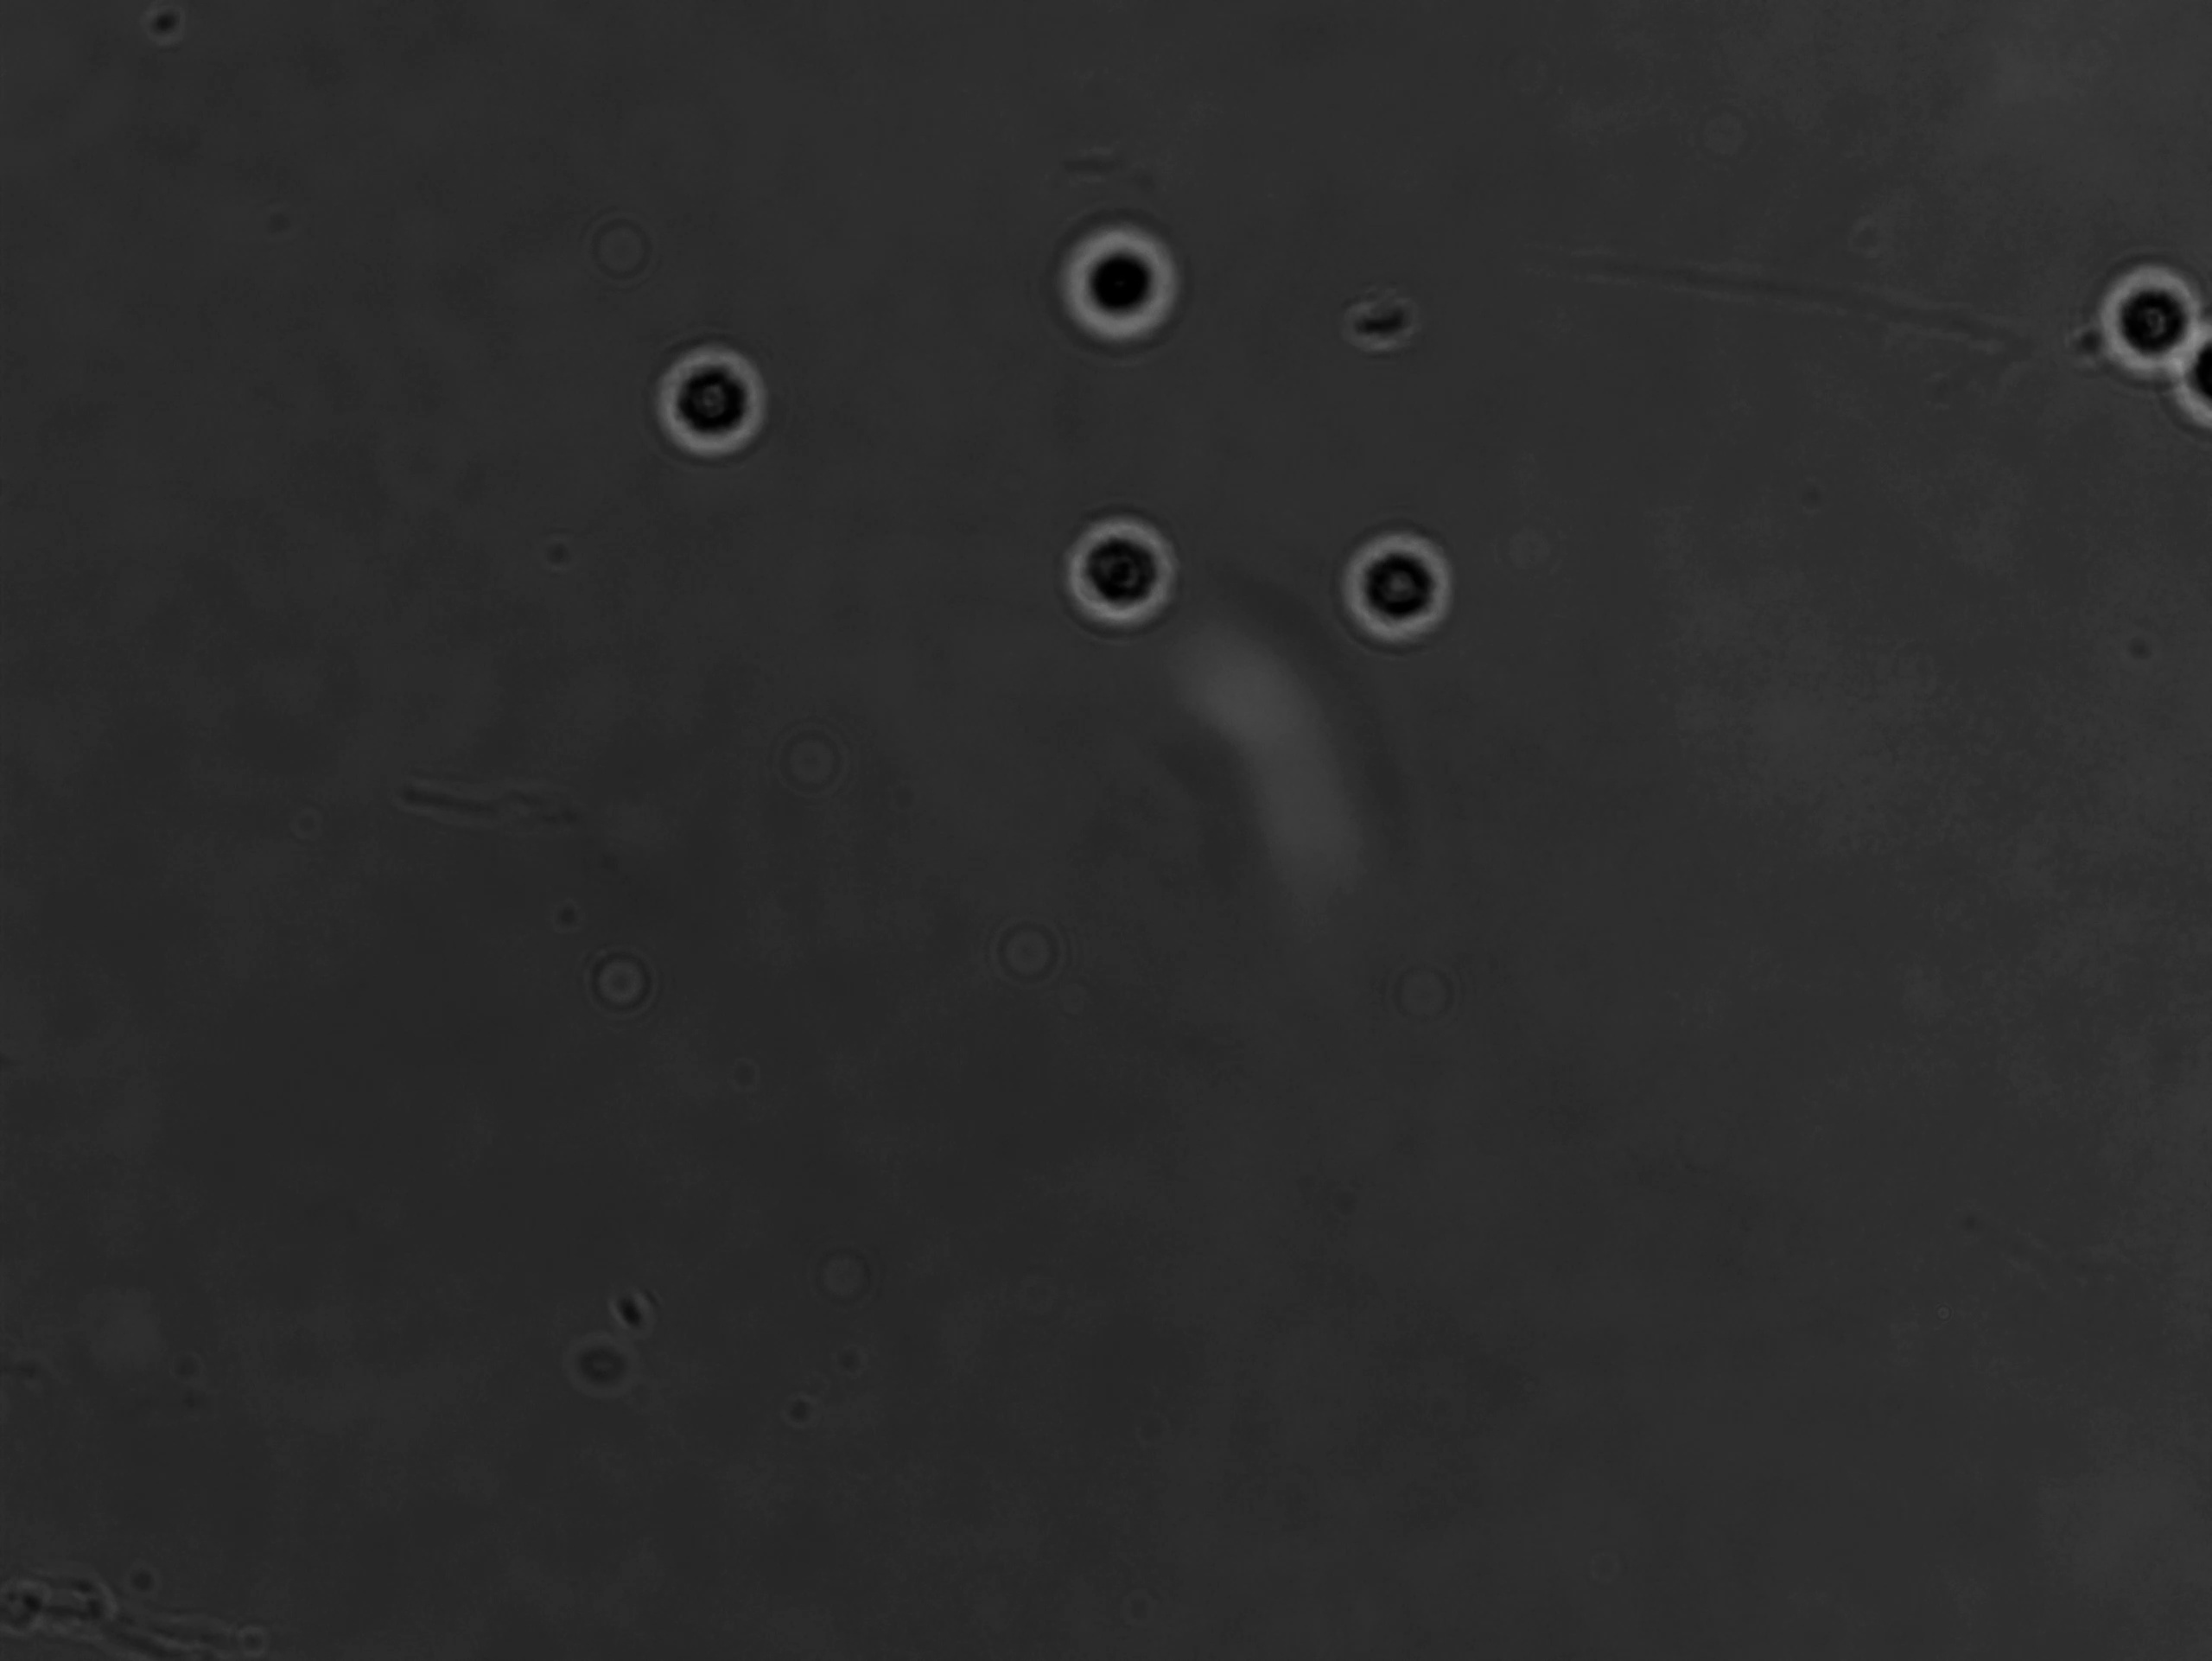depth:-20: (1312, 508, 1481, 673), (1041, 195, 1207, 359), (635, 312, 792, 476), (1045, 492, 1191, 642), (2085, 232, 2212, 398)
